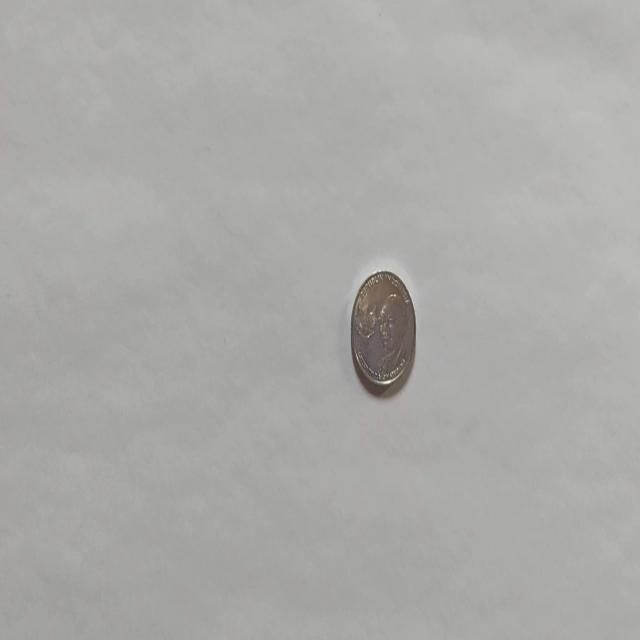lima ratus rupiah: (349, 268, 416, 390)
